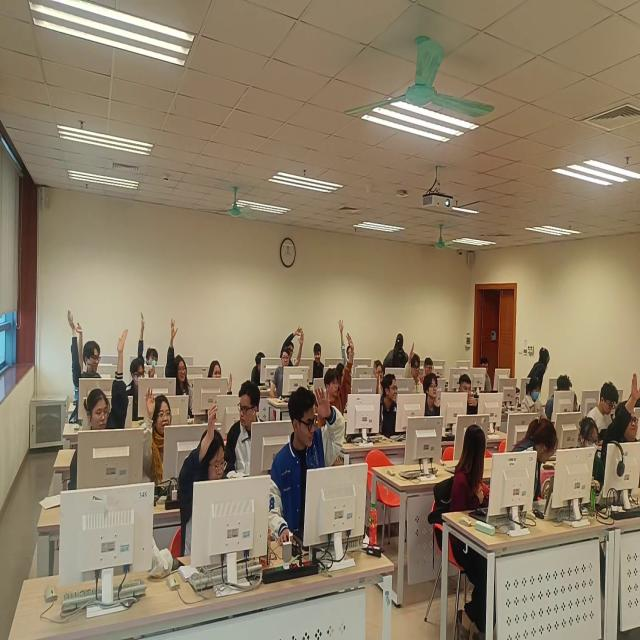raise_hand: (269, 381, 348, 553), (70, 328, 131, 496), (173, 399, 230, 561), (602, 366, 640, 503), (65, 307, 105, 417), (140, 386, 174, 487), (326, 330, 358, 415), (275, 330, 307, 398), (127, 358, 159, 420), (166, 316, 190, 393), (377, 371, 398, 439), (137, 306, 160, 366), (209, 355, 237, 395), (339, 316, 357, 375), (404, 340, 423, 393), (277, 325, 302, 362), (373, 357, 384, 381)
raise_head: (459, 372, 481, 420), (424, 372, 441, 420), (313, 342, 325, 381)
stand: (526, 339, 551, 390), (382, 330, 409, 371)
using_computer: (579, 413, 606, 496), (590, 378, 619, 433), (545, 374, 573, 418), (522, 377, 547, 421), (251, 348, 268, 386), (481, 356, 494, 396), (422, 353, 434, 376)
